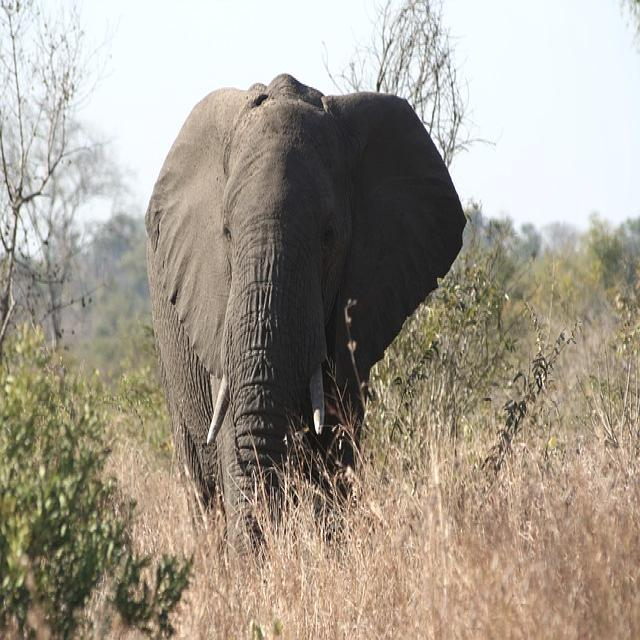FIL: (134, 70, 473, 584)
